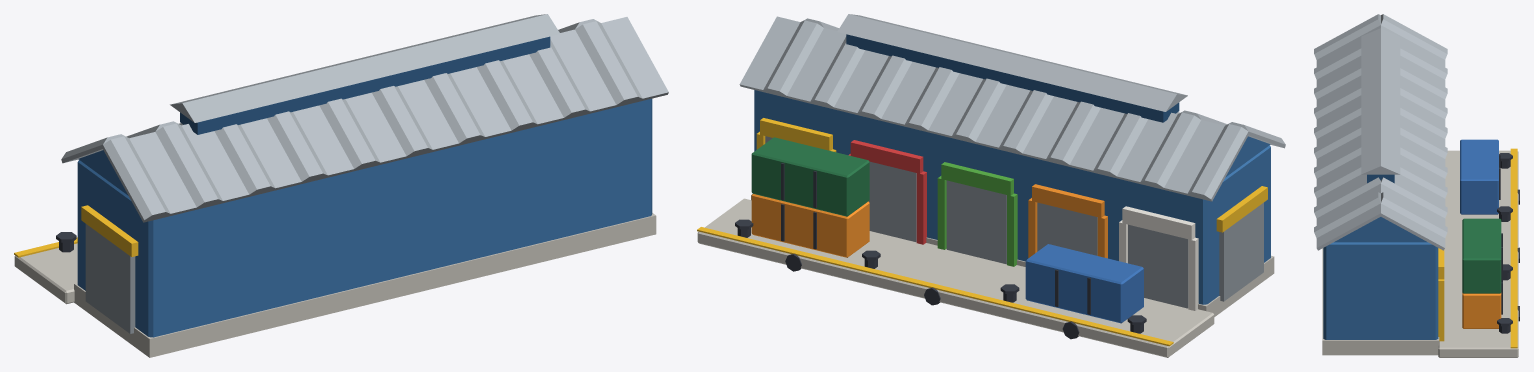
Rendered from armazem_porto.glb.
The picture shows the model from 3 angles, left to right: view 1: azimuth 30°, elevation 25°; view 2: azimuth 150°, elevation 25°; view 3: azimuth 270°, elevation 25°; orthographic projection. The views are drawn at different scales.
Parts seen in each view (by area): view 1: corpo; view 2: corpo; view 3: corpo.
Part boxes in pixels (<box>): corpo: <box>14,14,668,357</box>; corpo: <box>697,14,1285,357</box>; corpo: <box>1314,14,1519,357</box>.
Bounding box in the file's own units: 2.04 × 0.795 × 0.8953.
